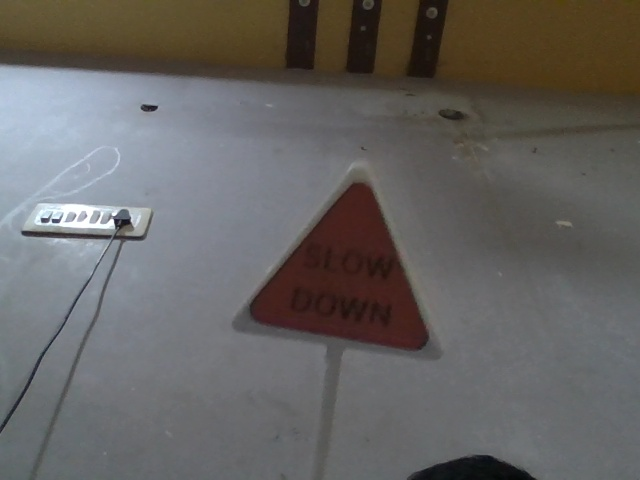slowdown: (229, 166, 442, 381)
